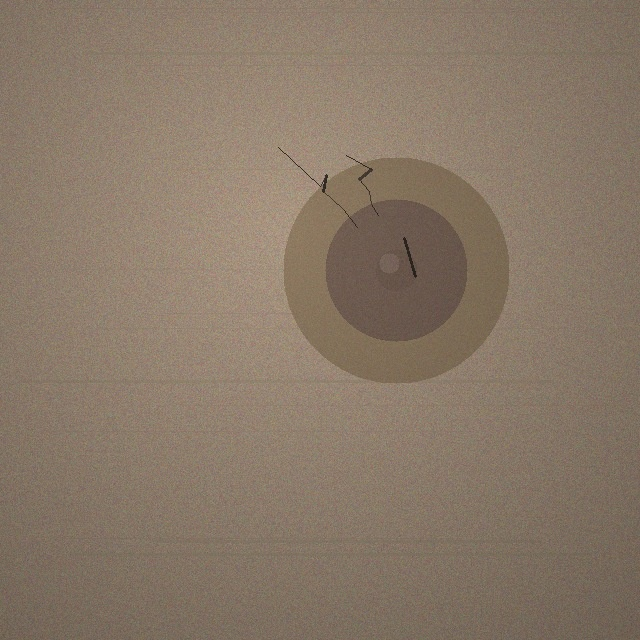crack: (283, 157, 509, 383)
